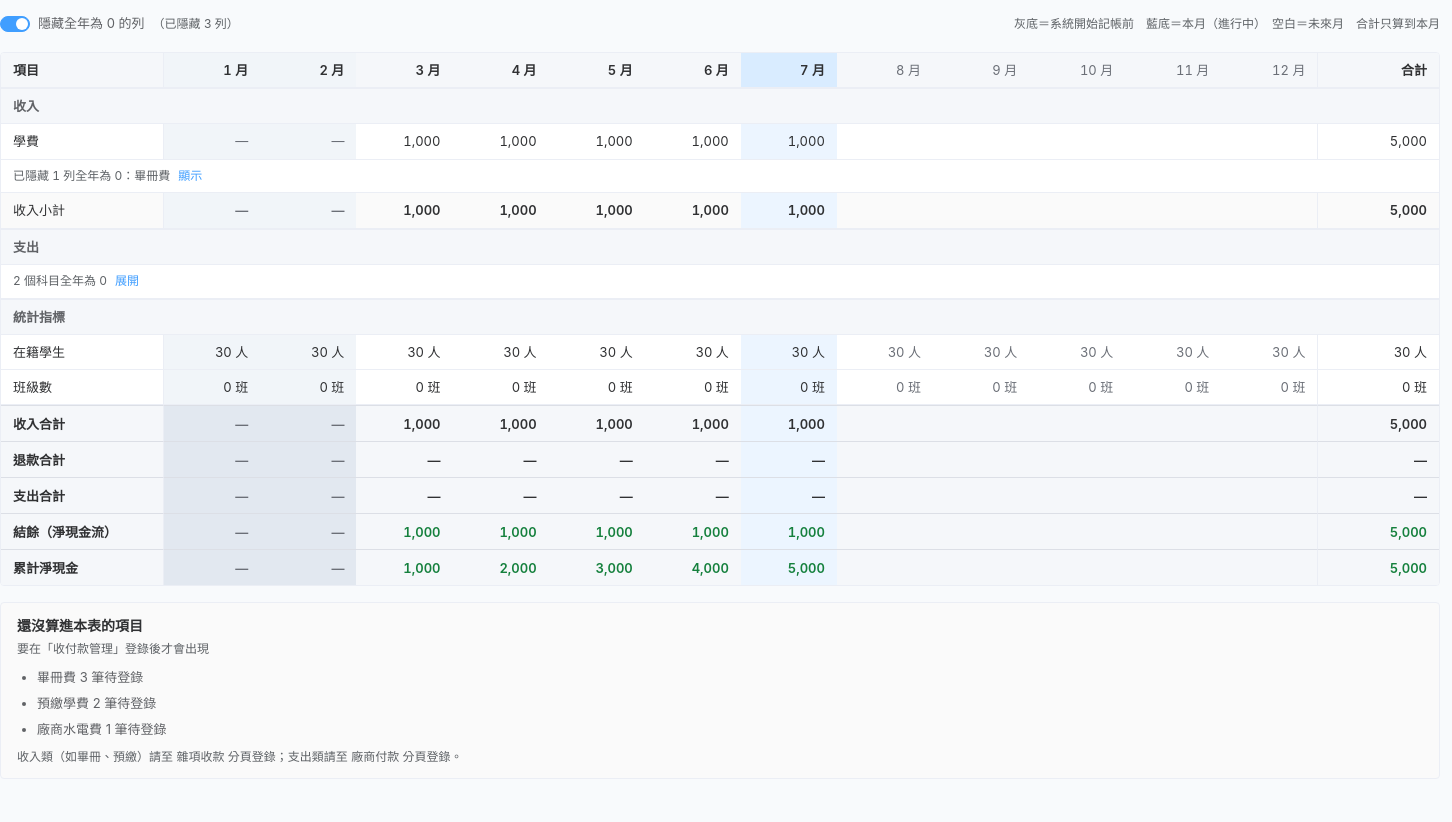
Test case: 隱藏全年為 0 的列 › 整段金額列全為 0：收成一行，小計列也不顯示；「展開」可還原
The width and height of the screenshot is (1452, 822).
Expected: the row with test id "section-collapsed-expense" is shown, [1, 265, 1439, 298]
Expected: the row with test id "section-collapsed-expense" shows "2 個科目全年為 0", [13, 273, 107, 288]
Click the button with test id "expand-section": (127, 281) [115, 273, 139, 290]
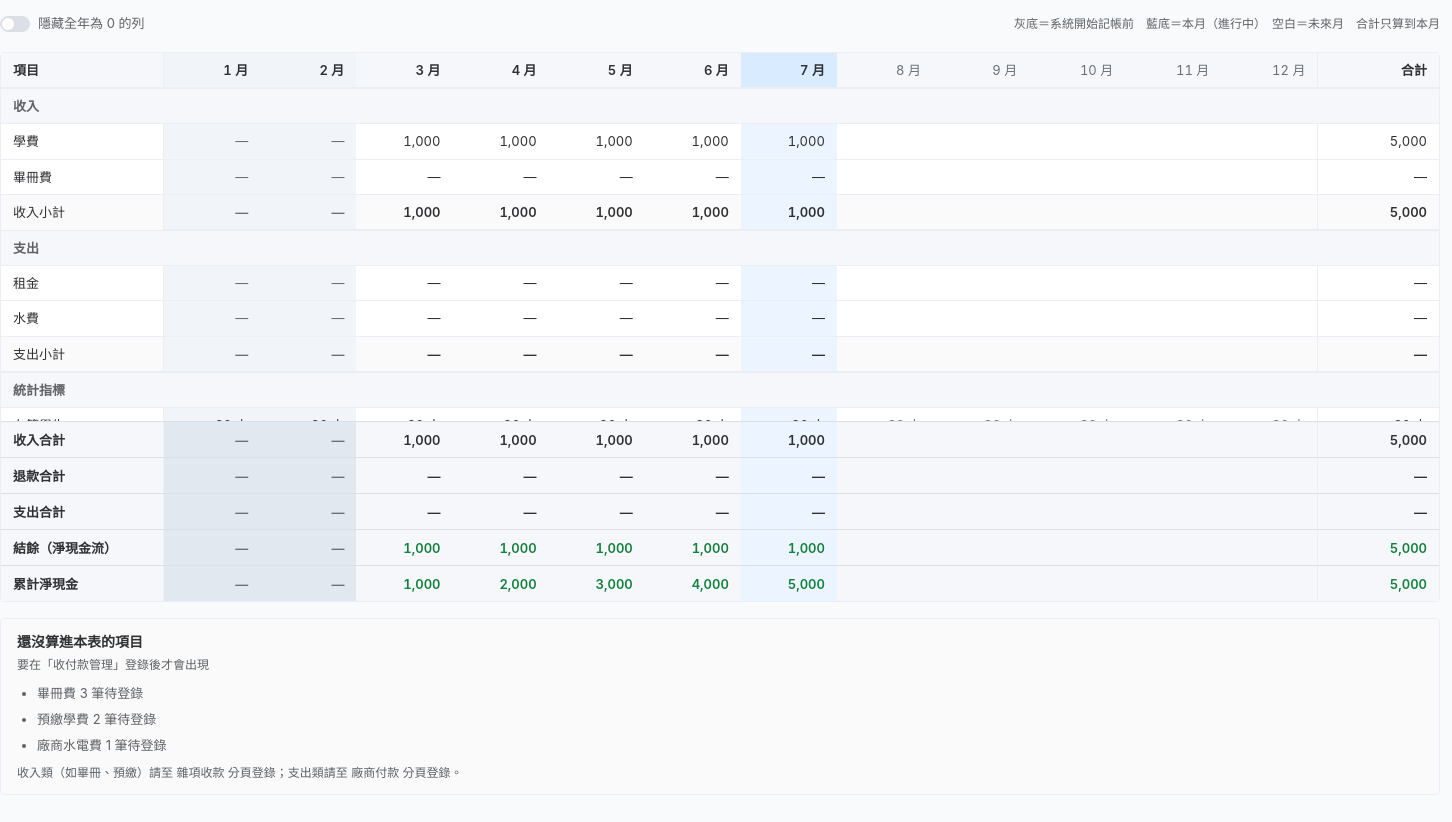
Now the row "租金 — — — — — — — —" is shown, box [1, 266, 1439, 301]
Now the row "支出小計 — — — — — — — —" is shown, box [1, 336, 1439, 372]
